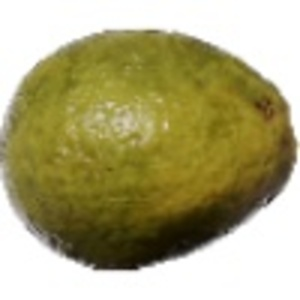goiaba: (5, 22, 296, 270)
